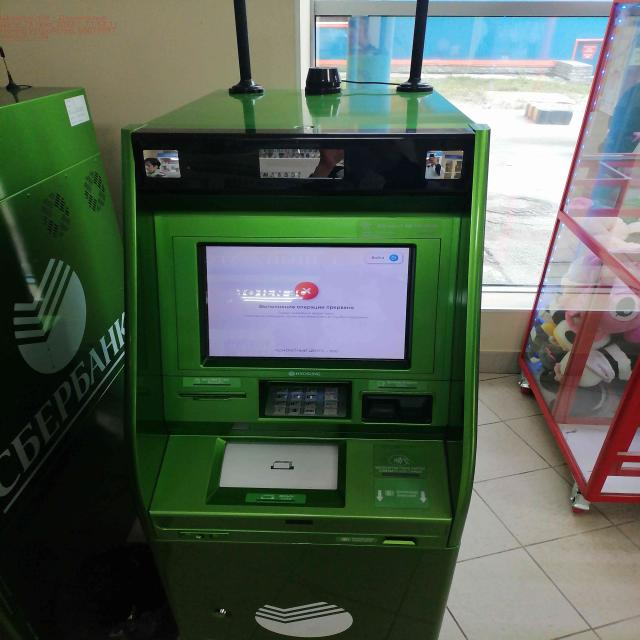bank: (119, 79, 494, 640), (0, 86, 141, 640)
